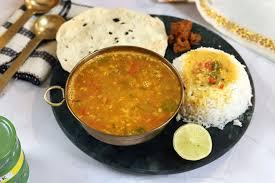rice: (179, 51, 250, 131)
roti phulka: (54, 4, 174, 72)
varan: (73, 52, 180, 127)
